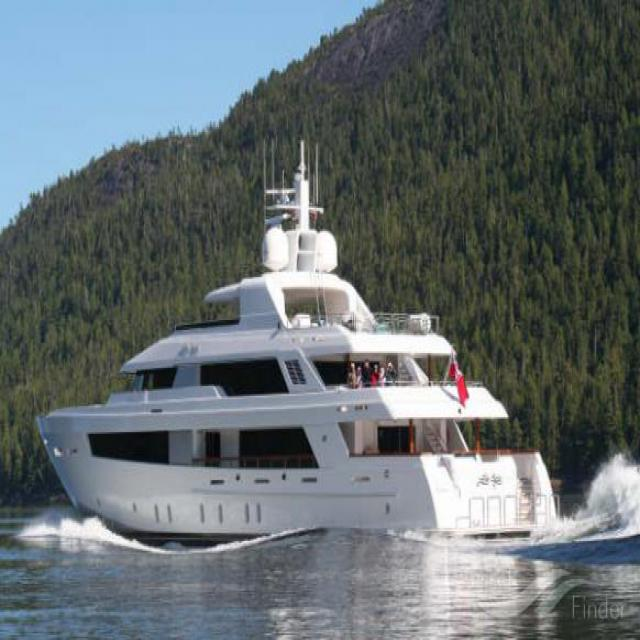Yacht: (33, 136, 555, 542)
